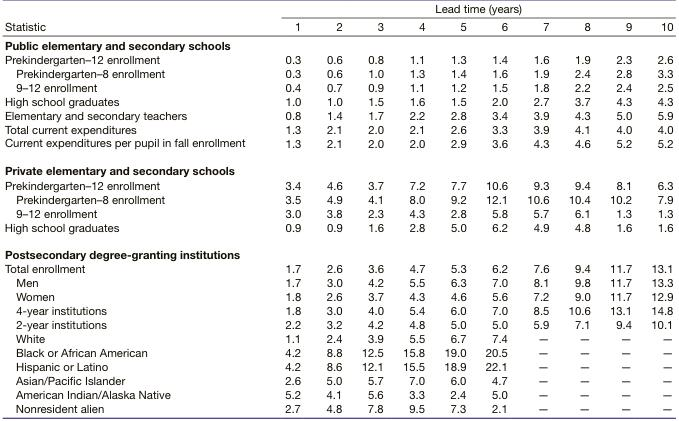table: (3, 3, 672, 414)
table column: (3, 3, 264, 414), (264, 3, 312, 414), (433, 3, 475, 414), (516, 3, 558, 414), (351, 3, 392, 414), (392, 3, 433, 414), (475, 3, 516, 414), (558, 3, 599, 414), (599, 3, 640, 414), (312, 3, 351, 414), (640, 3, 672, 414)
table column header: (3, 3, 672, 36)
table projected row header: (3, 157, 672, 178), (3, 241, 672, 262), (3, 36, 672, 52)
table row: (3, 136, 672, 157), (3, 157, 672, 178), (3, 220, 672, 241), (3, 241, 672, 262), (3, 18, 672, 36), (3, 36, 672, 52), (3, 3, 672, 18), (3, 52, 672, 66), (3, 66, 672, 80), (3, 80, 672, 94), (3, 94, 672, 108), (3, 108, 672, 122), (3, 122, 672, 136), (3, 178, 672, 192), (3, 192, 672, 206), (3, 206, 672, 220), (3, 262, 672, 276), (3, 276, 672, 290), (3, 290, 672, 304), (3, 304, 672, 318), (3, 318, 672, 332), (3, 332, 672, 346), (3, 346, 672, 360), (3, 360, 672, 374), (3, 374, 672, 388), (3, 388, 672, 402), (3, 402, 672, 414)
table spanning cell: (3, 3, 264, 36), (264, 3, 672, 18)
